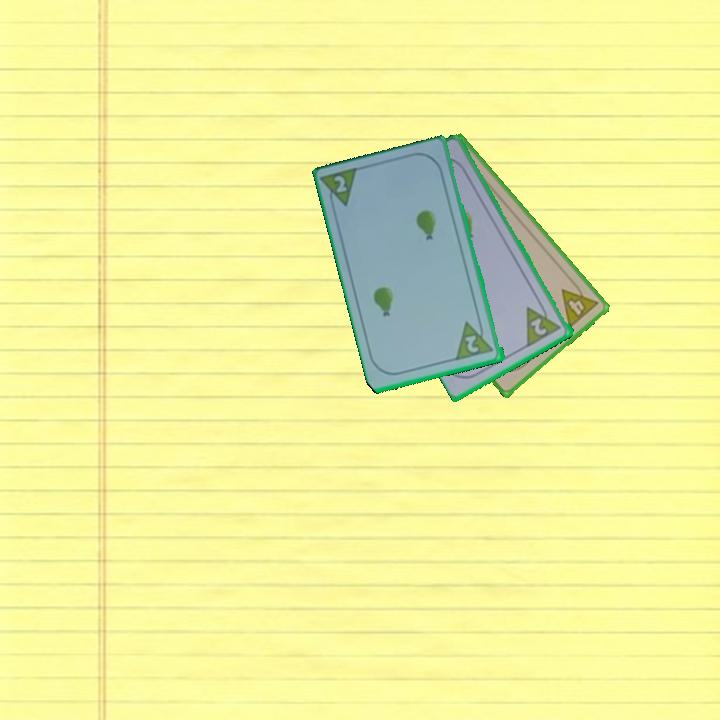2p: (319, 164, 363, 214), (523, 297, 565, 349), (453, 316, 497, 363)
4p: (558, 277, 601, 331)
